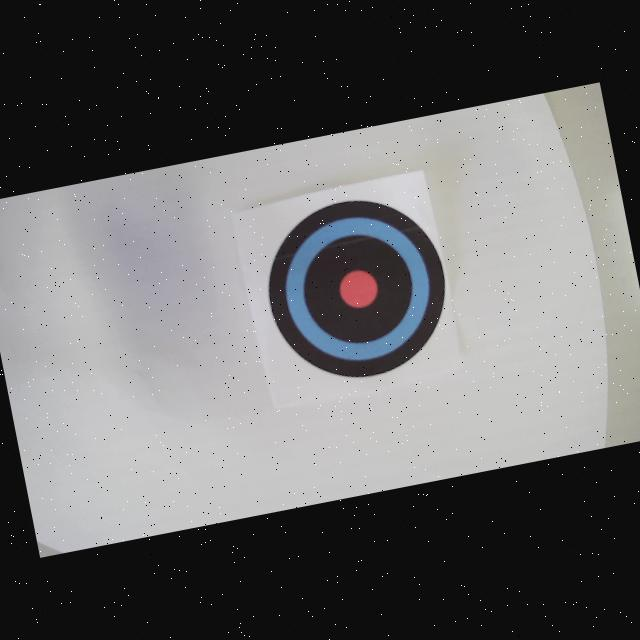COGNITIVE: (252, 184, 462, 394)
